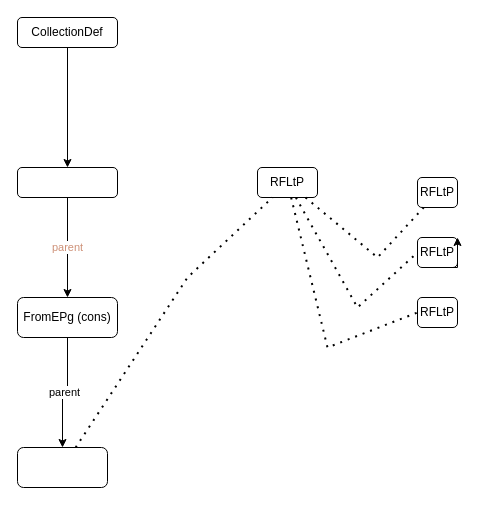
Image size: 483x505. Some labels were removed from this diagram. Each missing label, with the box of its shape:
CtrctEPgCont: (16, 166, 118, 198)
ToEPg (prov): (16, 446, 108, 488)
